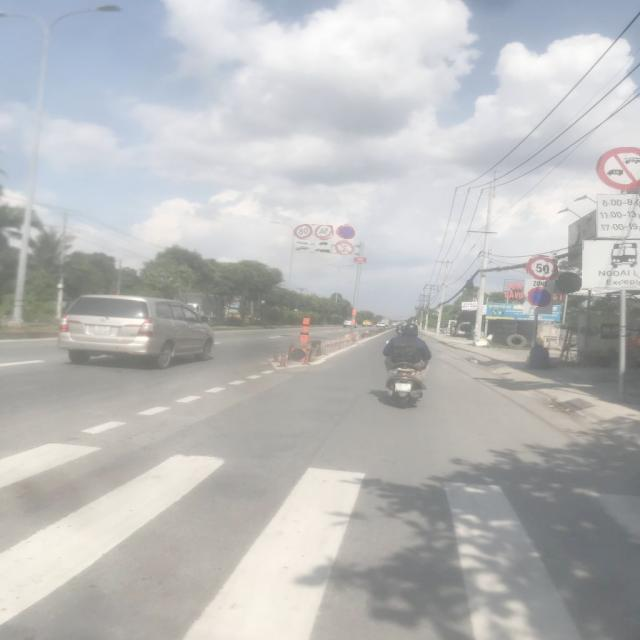107-cam-oto-khach-va-oto-tai: (596, 148, 640, 192)
127-toc-do-toi-da-50: (526, 254, 558, 282)
127-toc-do-toi-da-60: (316, 223, 334, 241)
127-toc-do-toi-da-80: (294, 223, 314, 240)
